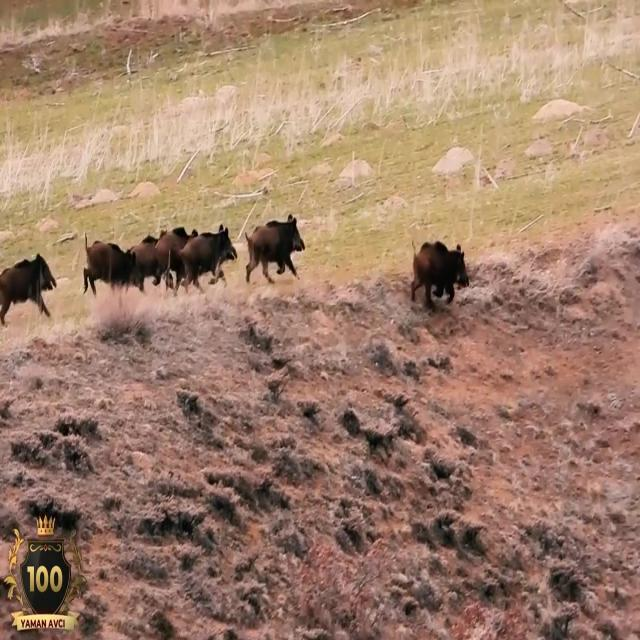pig: (416, 224, 496, 311), (80, 219, 172, 293), (10, 224, 60, 348), (272, 196, 328, 306), (198, 218, 248, 298), (173, 201, 200, 249)
